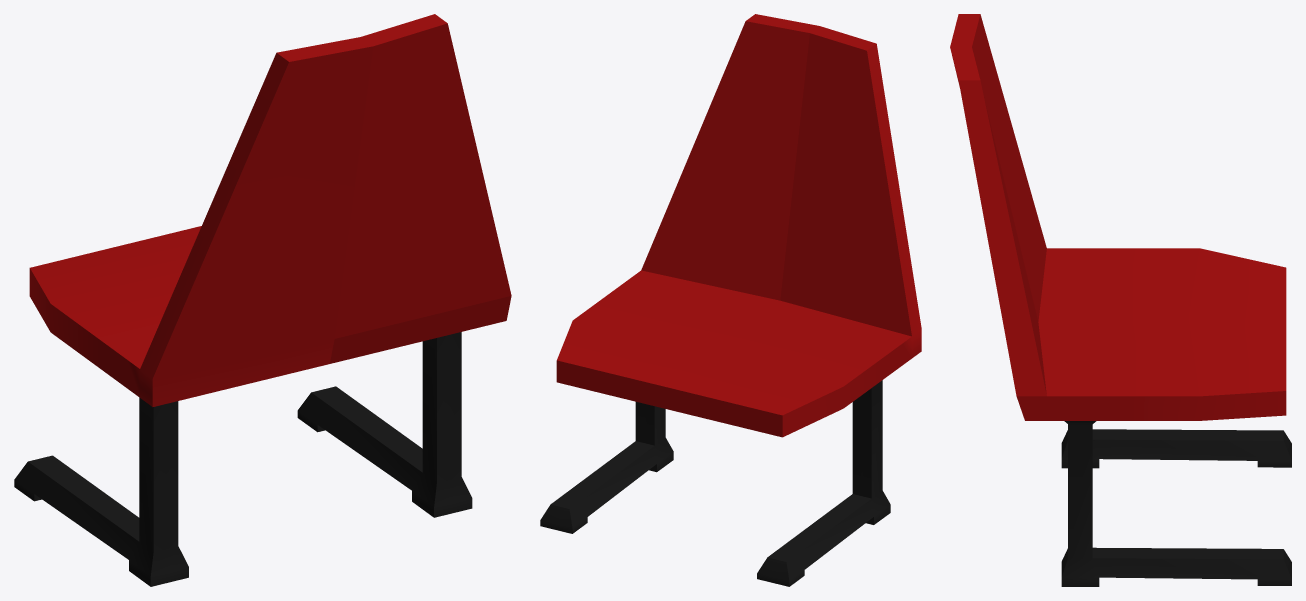
Rendered from Chair_Texture.obj.
The picture shows the model from 3 angles, left to right: view 1: azimuth 30°, elevation 25°; view 2: azimuth 150°, elevation 25°; view 3: azimuth 270°, elevation 25°; orthographic projection. The views are drawn at different scales.
Visible parts, largest first — view 1: Chair Seat, Leg_Left Chair, Chair Leg_Right; view 2: Chair Seat, Leg_Left Chair, Chair Leg_Right; view 3: Chair Seat, Chair Leg_Right, Leg_Left Chair.
Part boxes in pixels (x1,y1,x2,y2): Chair Seat: (29, 14, 511, 406); Leg_Left Chair: (14, 397, 188, 586); Chair Leg_Right: (297, 332, 472, 517); Chair Seat: (556, 14, 921, 437); Leg_Left Chair: (757, 380, 890, 586); Chair Leg_Right: (540, 402, 673, 533); Chair Seat: (950, 14, 1286, 420); Chair Leg_Right: (1061, 421, 1291, 586); Leg_Left Chair: (1061, 429, 1291, 468).
Bounding box in the file's own units: 3.82 × 5.67 × 3.73.
